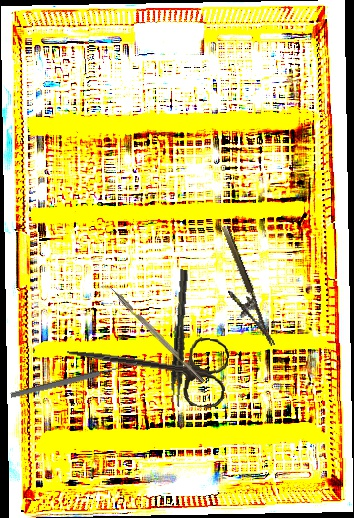Chopper: (99, 279, 206, 389)
Iris Scissors: (62, 321, 231, 410)
Needle Holder: (205, 224, 276, 354)
Surgical Spoon: (9, 360, 139, 400)
Tissue Forceps: (168, 269, 193, 407)
